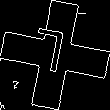L_S: (35, 27, 75, 83)
